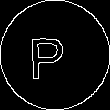P_N: (36, 29, 74, 81)
